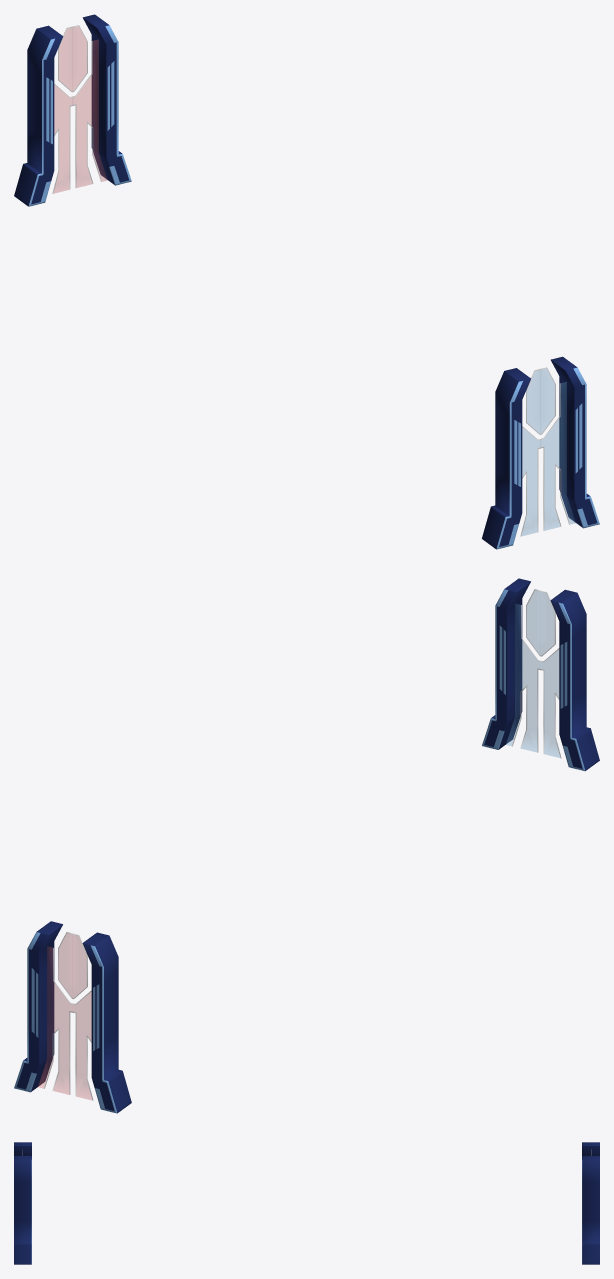
File: Gate (Firewall) Merah.fbx
The picture shows the model from 3 angles, top to bottom: view 1: azimuth 30°, elevation 25°; view 2: azimuth 150°, elevation 25°; view 3: azimuth 270°, elevation 25°; orthographic projection. The views are drawn at different scales.
Parts seen in each view (by area): view 1: Tiang besar biru, Tiang besar merah, Pintu biru, Pintu merah, Pintu biru segi 8, Pintu merah segi 8; view 2: Tiang besar biru, Tiang besar merah, Pintu merah, Pintu biru, Pintu biru segi 8, Pintu merah segi 8; view 3: Tiang besar merah, Tiang besar biru.
Part boxes in pixels (bbox=[...]): Tiang besar biru: bbox=[482, 356, 599, 549]; Tiang besar merah: bbox=[14, 14, 131, 206]; Pintu biru: bbox=[520, 382, 575, 536]; Pintu merah: bbox=[52, 40, 107, 193]; Pintu biru segi 8: bbox=[526, 367, 555, 434]; Pintu merah segi 8: bbox=[58, 25, 87, 92]; Tiang besar biru: bbox=[482, 578, 599, 771]; Tiang besar merah: bbox=[14, 921, 131, 1113]; Pintu merah: bbox=[38, 946, 93, 1100]; Pintu biru: bbox=[506, 603, 561, 758]; Pintu biru segi 8: bbox=[526, 589, 555, 656]; Pintu merah segi 8: bbox=[58, 932, 87, 999]; Tiang besar merah: bbox=[582, 1142, 599, 1264]; Tiang besar biru: bbox=[14, 1142, 31, 1264].
Size of the model in its own units: 402 by 602 by 3240.
